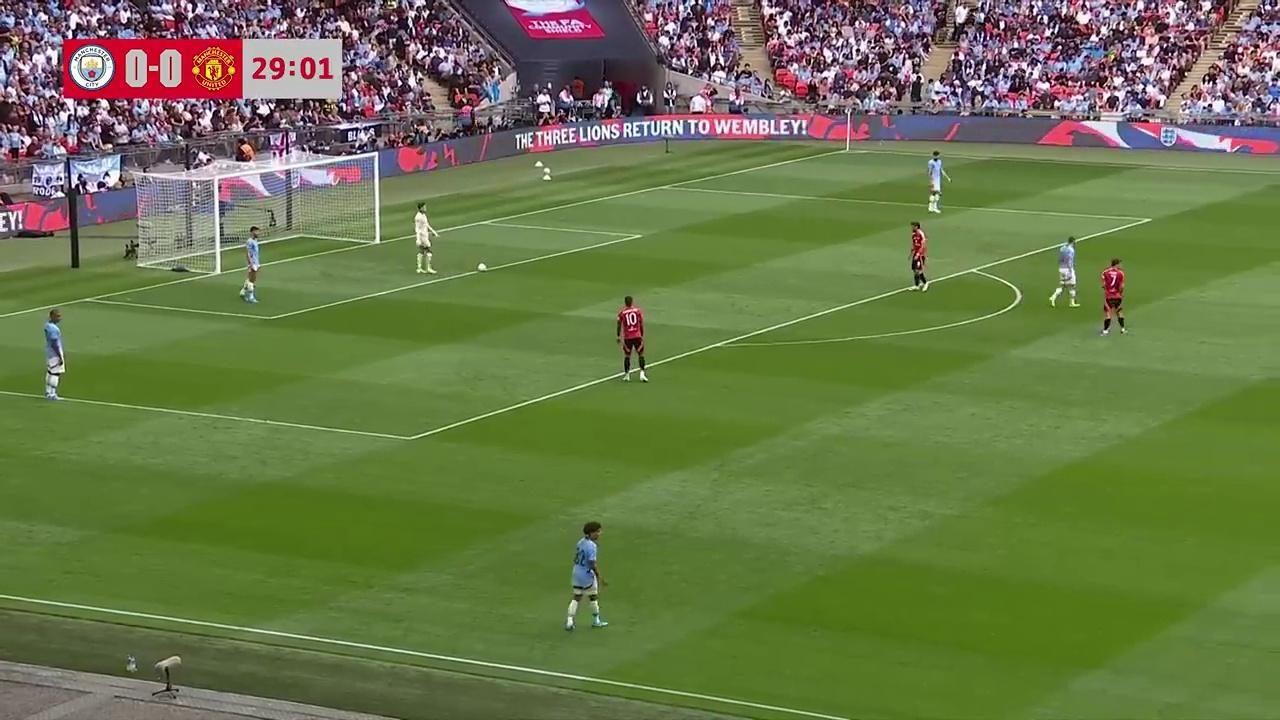ball: (476, 260, 488, 273)
player: (565, 521, 609, 632), (616, 295, 648, 383), (1098, 257, 1128, 336), (1049, 235, 1080, 308), (43, 309, 66, 385), (414, 202, 438, 274), (44, 321, 65, 400), (240, 229, 260, 303), (927, 150, 950, 213), (909, 221, 929, 290)
